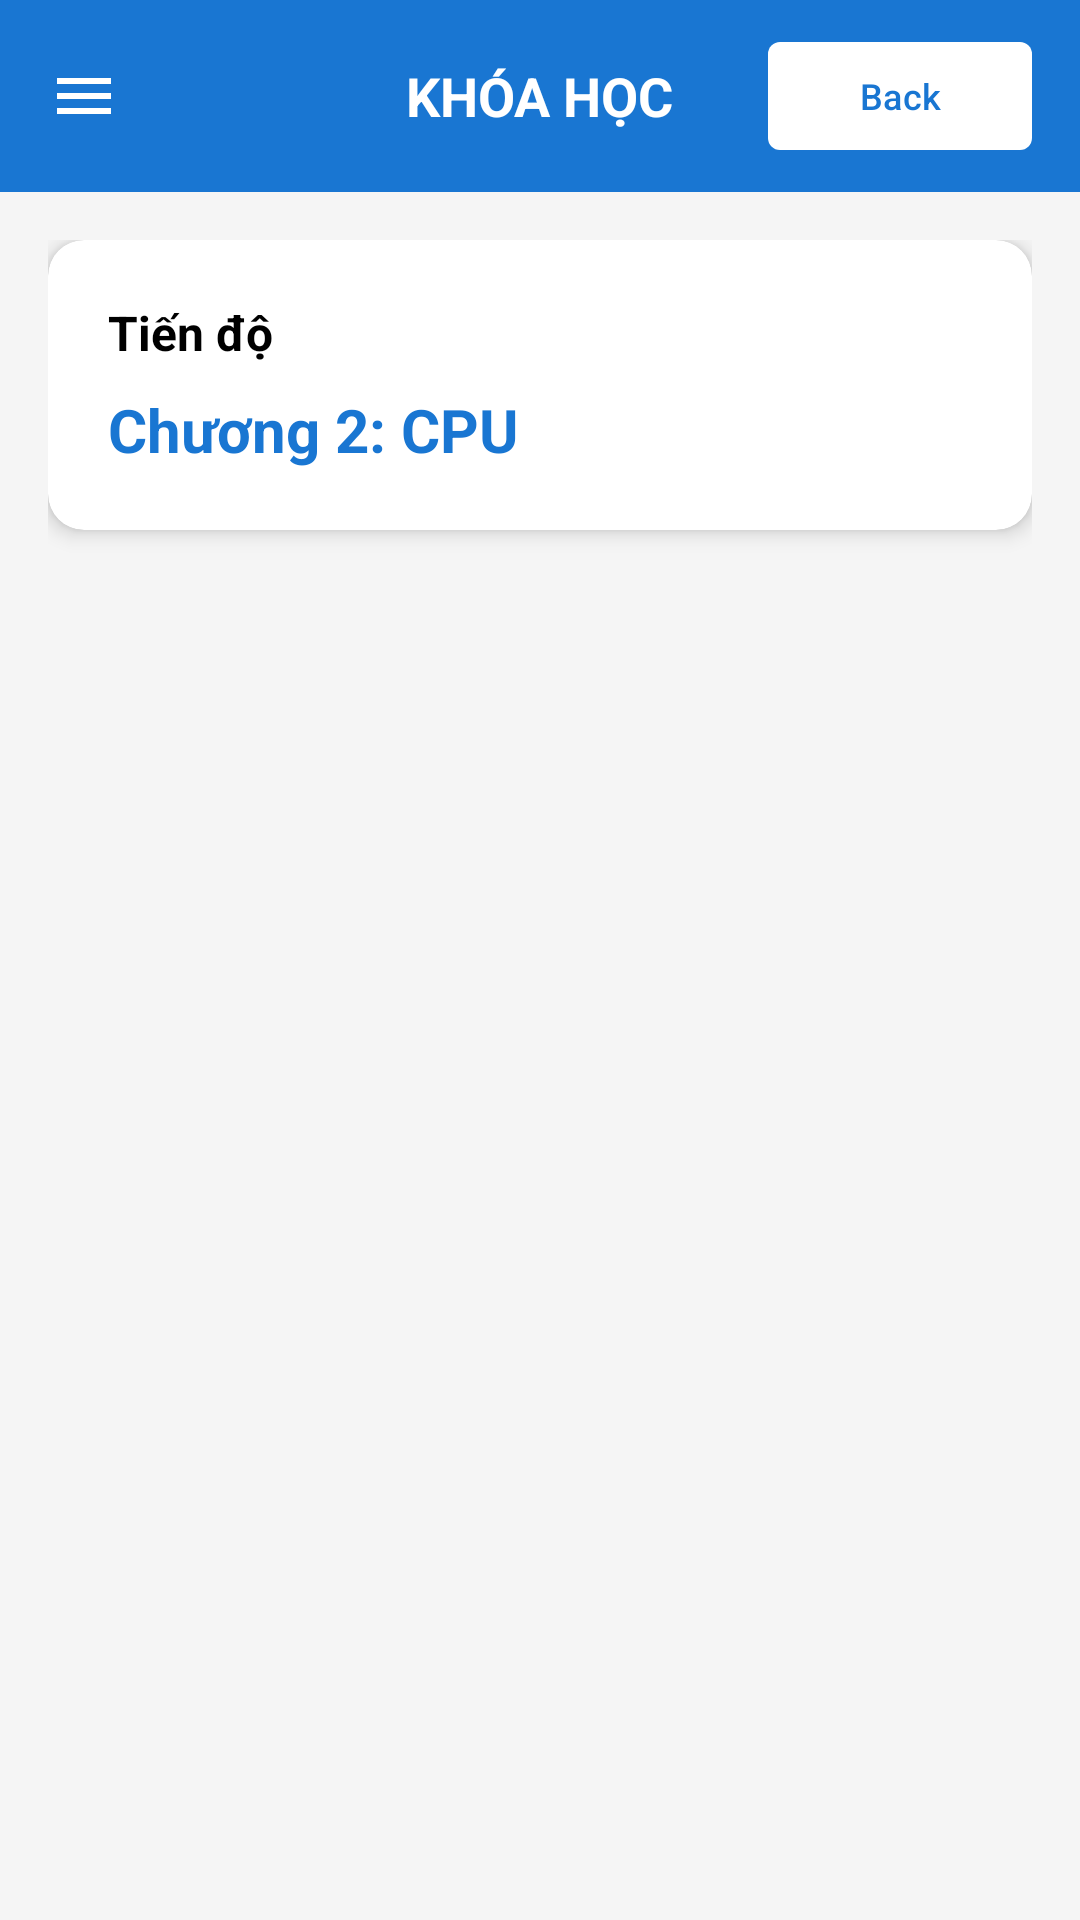

Screen size 1080 × 1920. Icon name, then its center in pixels as point (x, y):
menu: point (84, 96)
